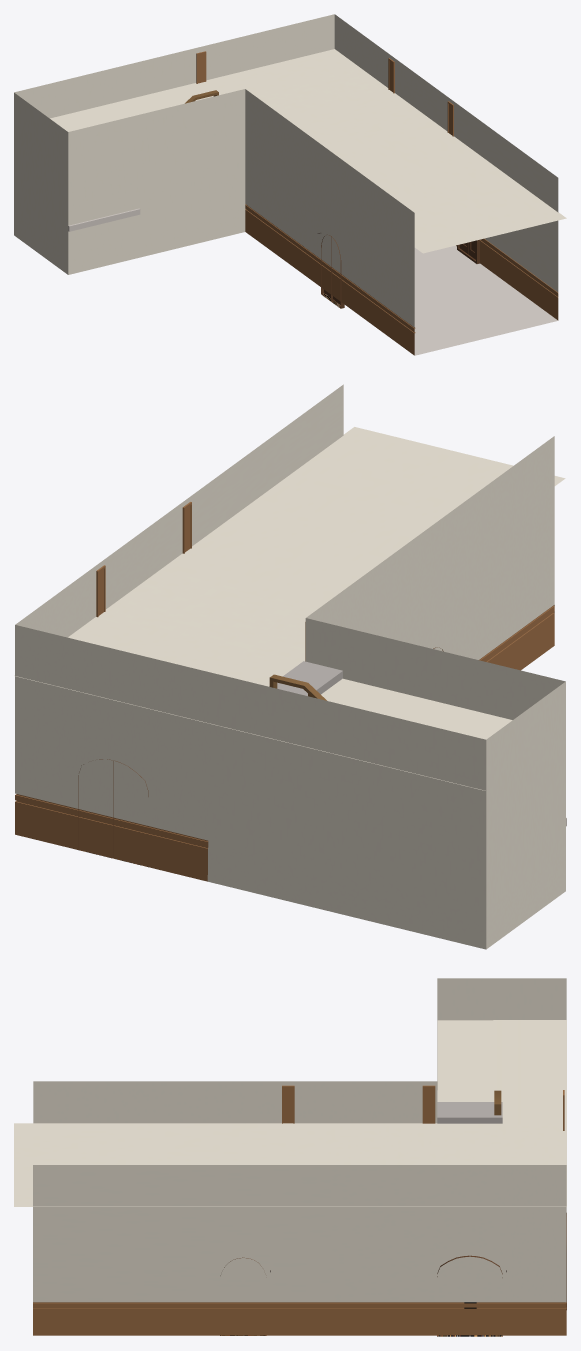
File: corridor1.fbx
3 renders of one model, top to bottom at view 1: azimuth 30°, elevation 25°; view 2: azimuth 150°, elevation 25°; view 3: azimuth 270°, elevation 25°, orthographic. The views are drawn at different scales.
Parts seen in each view (by area): view 1: corrodor1, Object193; view 2: corrodor1, Object193; view 3: corrodor1, Object193.
Part boxes in pixels (x1=…): corrodor1: x1=14, y1=14, x2=558, y2=355; Object193: x1=50, y1=49, x2=566, y2=253; corrodor1: x1=15, y1=384, x2=566, y2=949; Object193: x1=14, y1=427, x2=565, y2=790; corrodor1: x1=33, y1=978, x2=566, y2=1336; Object193: x1=14, y1=1020, x2=566, y2=1206.
Bounding box in the file's own units: 18.71 × 23.23 × 8.27.
2 materials, 2 textured.
